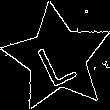L_NW: (33, 29, 82, 88)
